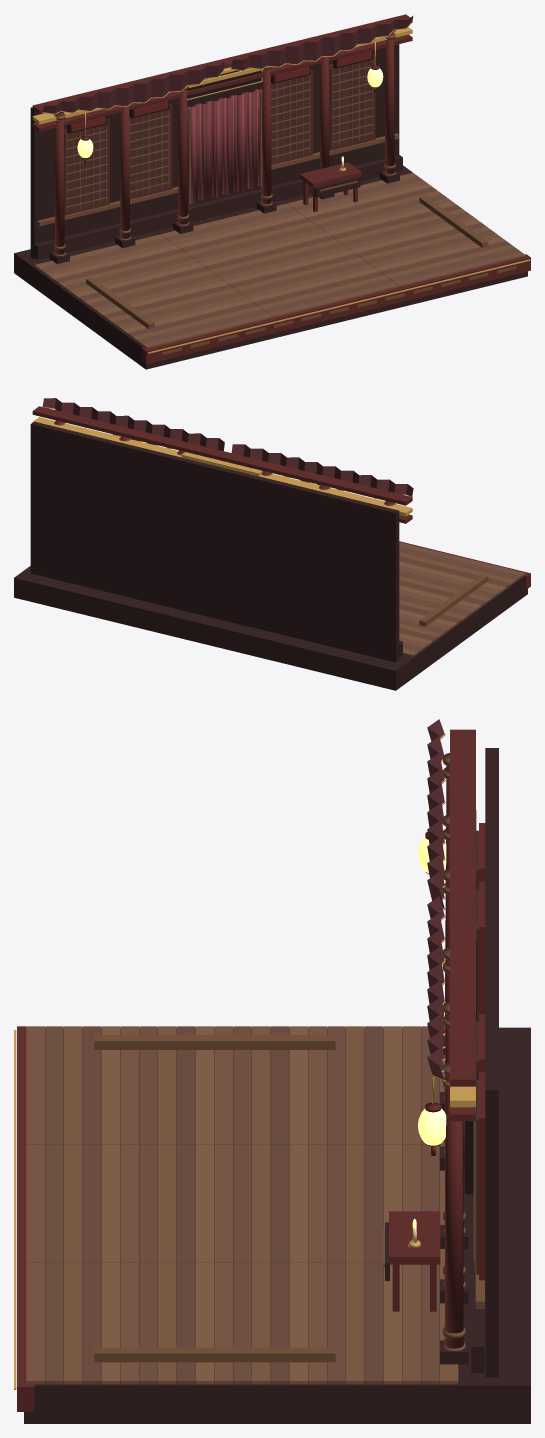
The model's file is stage.glb.
3 views of the same model, one above another, from view 1: azimuth 30°, elevation 25°; view 2: azimuth 150°, elevation 25°; view 3: azimuth 270°, elevation 25° (orthographic). The views are drawn at different scales.
Parts seen in each view (by area): view 1: Cube.085, Cube, Cube.001, Cube.087, Cube.152, Cube.109, Cube.132, Folded silk valance.001, Folded silk valance, Cube.089, Cube.177, Cube.179 (+91 smaller); view 2: Cube.085, Cube, Cube.179, Folded silk valance.001, Folded silk valance, Cube.178, Cube.189, Cube.002, Cube.005, Cube.008, Cube.011, Cube.180 (+7 smaller); view 3: Cube, Cube.179, Cube.085, Cone.029, Cube.001, Cube.190, Cube.189, Folded silk valance, Folded silk valance.001, Cube.182, Cube.058, Cube.056 (+69 smaller).
Part boxes in pixels (x1,y1,x2,y2): Cube.085: [30, 44, 399, 259]; Cube: [14, 165, 527, 369]; Cube.001: [142, 254, 530, 364]; Cube.087: [34, 155, 402, 259]; Cube.152: [330, 59, 373, 149]; Cube.109: [64, 124, 107, 214]; Cube.132: [271, 74, 310, 164]; Folded silk valance.001: [231, 15, 413, 70]; Folded silk valance: [42, 61, 224, 113]; Cube.089: [129, 108, 169, 198]; Cube.177: [32, 34, 412, 131]; Cube.179: [32, 14, 412, 113]; Cube.085: [30, 421, 399, 662]; Cube: [14, 566, 527, 690]; Cube.179: [32, 406, 412, 505]; Folded silk valance.001: [42, 398, 224, 450]; Folded silk valance: [231, 444, 413, 496]; Cube.178: [32, 417, 412, 516]; Cube.189: [419, 574, 488, 626]; Cube.002: [399, 542, 525, 577]; Cube.005: [399, 547, 520, 581]; Cube.008: [399, 551, 515, 584]; Cube.011: [399, 556, 510, 588]; Cube.180: [181, 452, 262, 475]; Cube: [24, 1027, 530, 1423]; Cube.179: [450, 729, 475, 1086]; Cube.085: [485, 748, 498, 1377]; Cone.029: [444, 1075, 463, 1348]; Cube.001: [17, 1026, 34, 1411]; Cube.190: [94, 1347, 335, 1362]; Cube.189: [94, 1035, 335, 1049]; Folded silk valance: [427, 719, 444, 908]; Folded silk valance.001: [427, 896, 444, 1079]; Cube.182: [389, 1211, 440, 1264]; Cube.058: [364, 1263, 383, 1384]; Cube.056: [364, 1026, 383, 1144].
Bounding box in the file's own units: 13.8 × 6.29 × 8.36.
